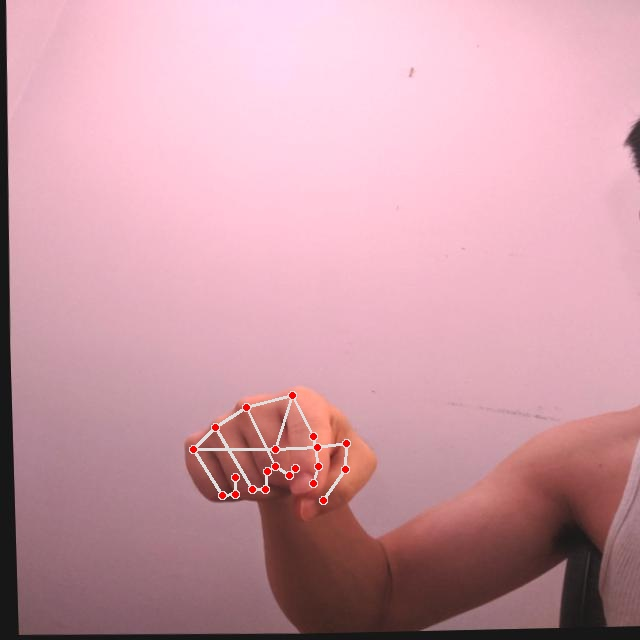Z: (172, 382, 383, 530)
